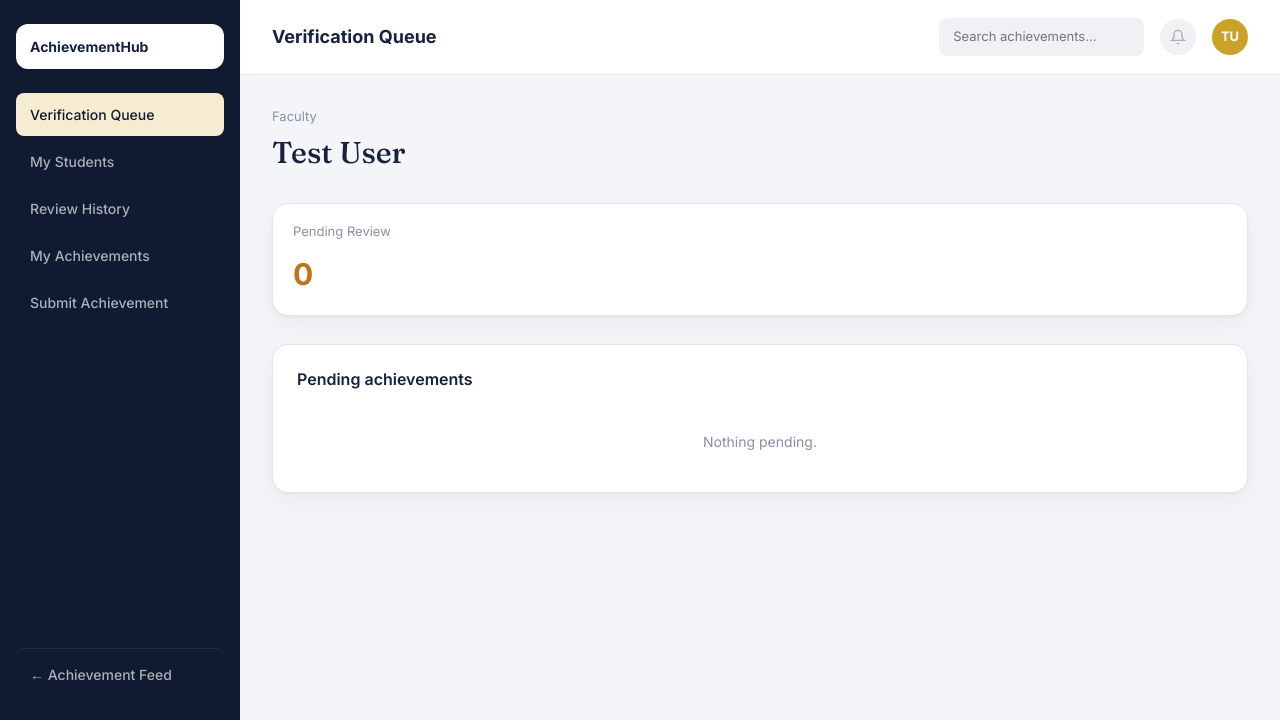
Roster availability › opens a working roster panel for faculty
Click the button "My Students".
click(120, 162)  # box x1=16 y1=140 x2=224 y2=183
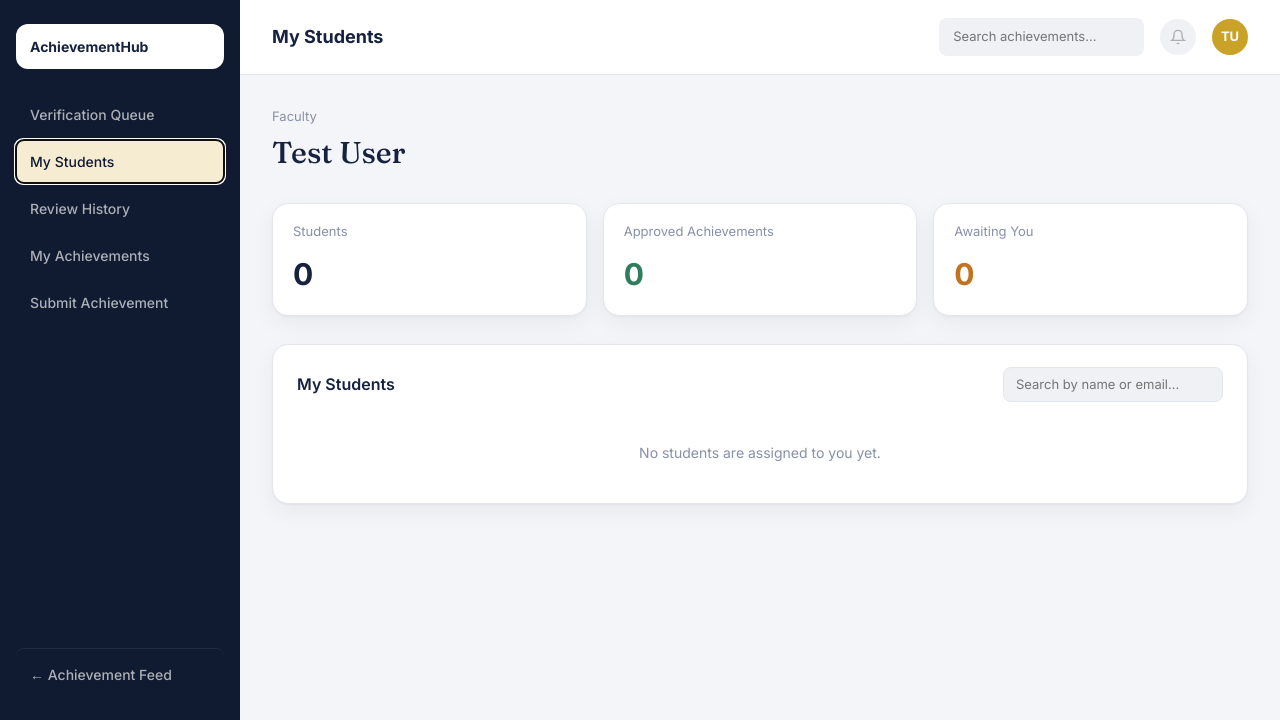
Result: the heading "My Students" is shown at x1=297 y1=372 x2=395 y2=396
